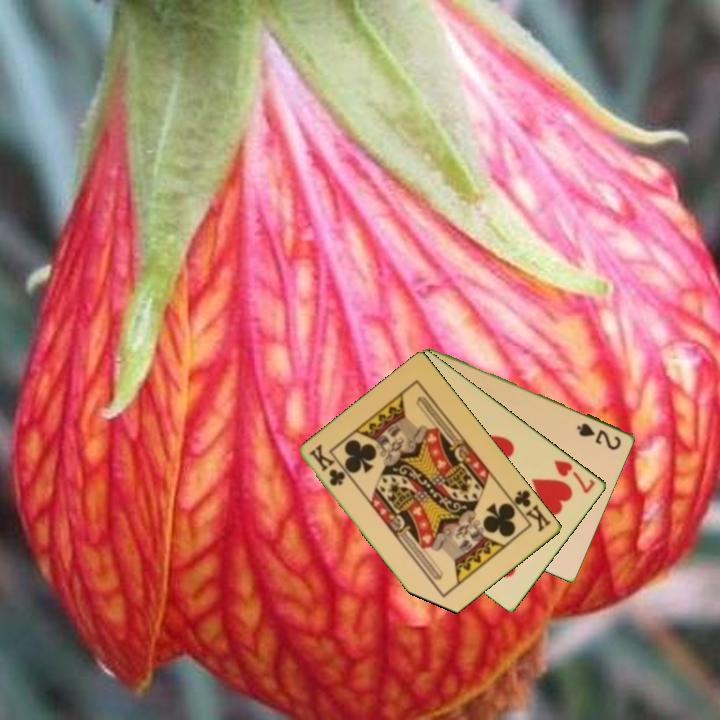2s: (573, 419, 625, 453)
7h: (550, 456, 598, 496)
Kc: (506, 486, 554, 535), (306, 441, 349, 489)
